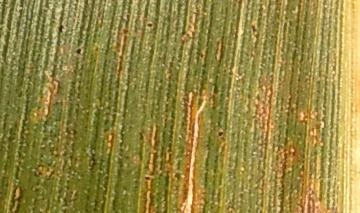tarspot: (53, 23, 68, 37), (214, 127, 226, 141), (141, 20, 156, 30), (71, 46, 84, 56)
